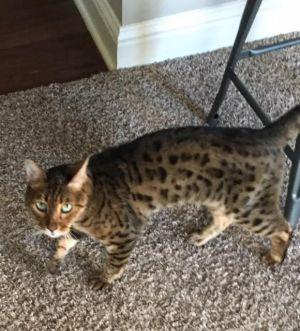bengal: (22, 156, 99, 244)
